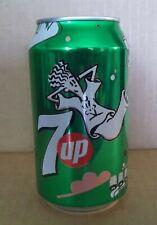metal: (29, 18, 128, 212)
